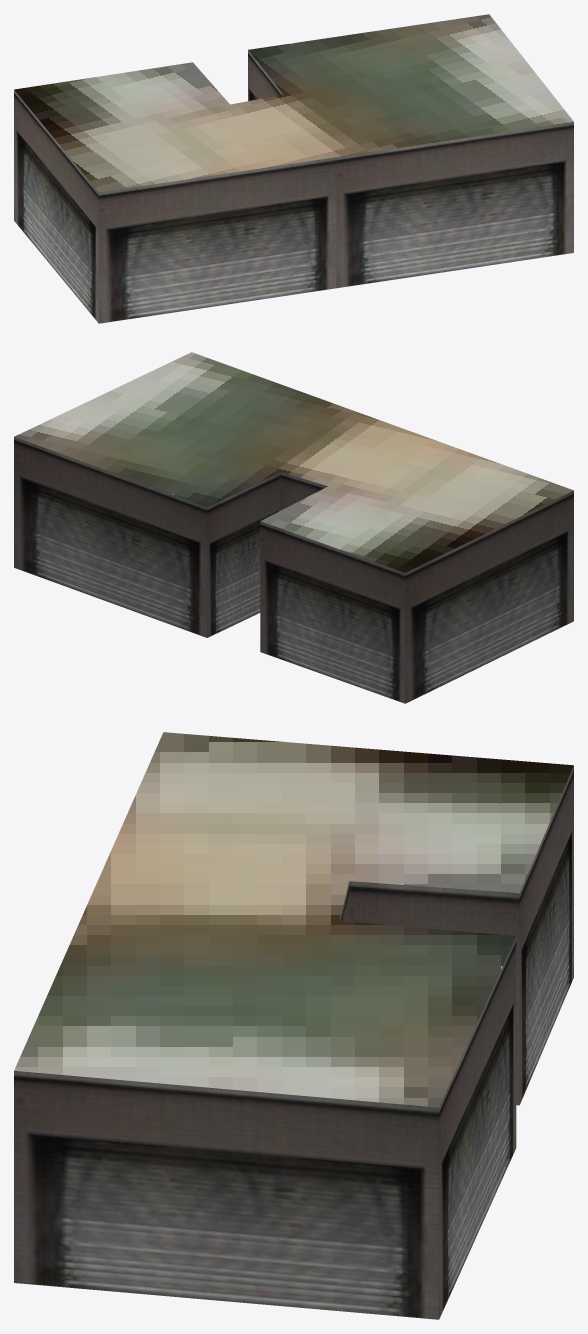
File: T_1T8K94PKPL.dae
3 renders of one model, top to bottom at view 1: azimuth 30°, elevation 25°; view 2: azimuth 150°, elevation 25°; view 3: azimuth 270°, elevation 25°, orthographic. The views are drawn at different scales.
Parts seen in each view (by area): view 1: SketchUp (×4); view 2: SketchUp (×6); view 3: SketchUp (×5).
Boxes of the visible parts, <box> form: SketchUp (×4): <box>14,14,573,323</box>; SketchUp (×6): <box>14,352,573,703</box>; SketchUp (×5): <box>14,732,573,1319</box>.
Size of the model in its own units: 9.26 by 5.84 by 2.44.
Materials: 2 (2 with a texture image).
